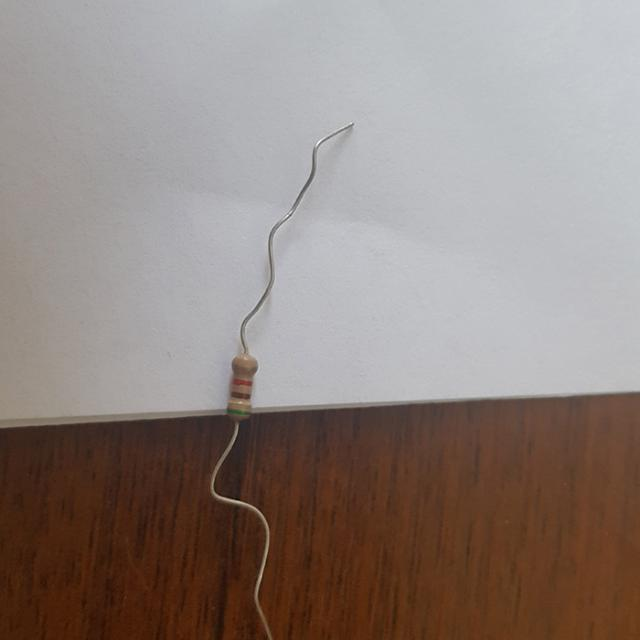brown: (232, 392, 250, 398)
gold: (233, 366, 258, 372)
green: (228, 408, 250, 416)
red: (233, 379, 252, 385)
resistor: (223, 347, 263, 428)
